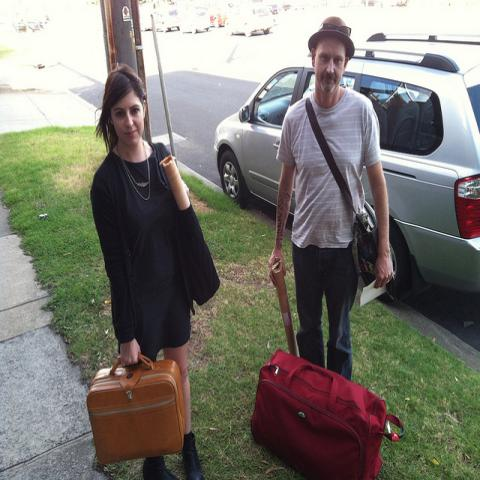car: (212, 27, 480, 306), (224, 4, 274, 37), (153, 3, 182, 33), (180, 8, 210, 34)
